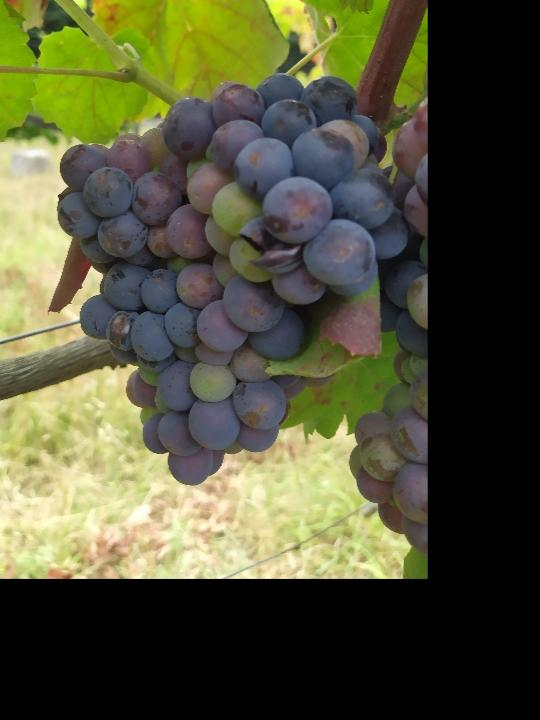grape: (50, 69, 415, 490)
